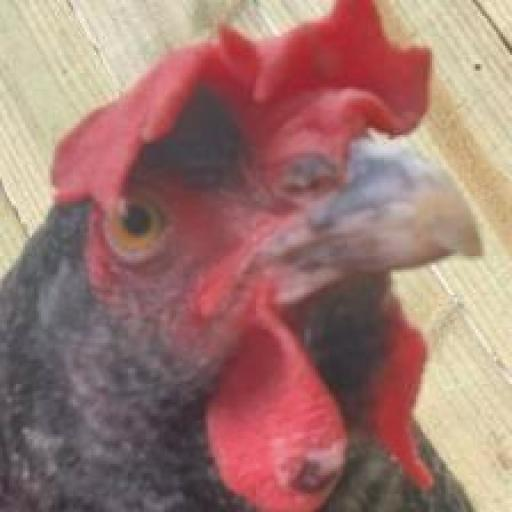disease: (249, 397, 350, 510)
